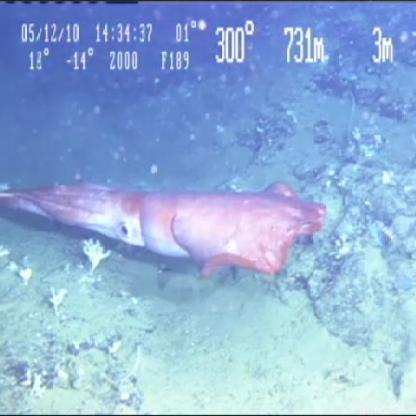Bio: (1, 176, 331, 284), (79, 234, 113, 278), (46, 282, 70, 318)
